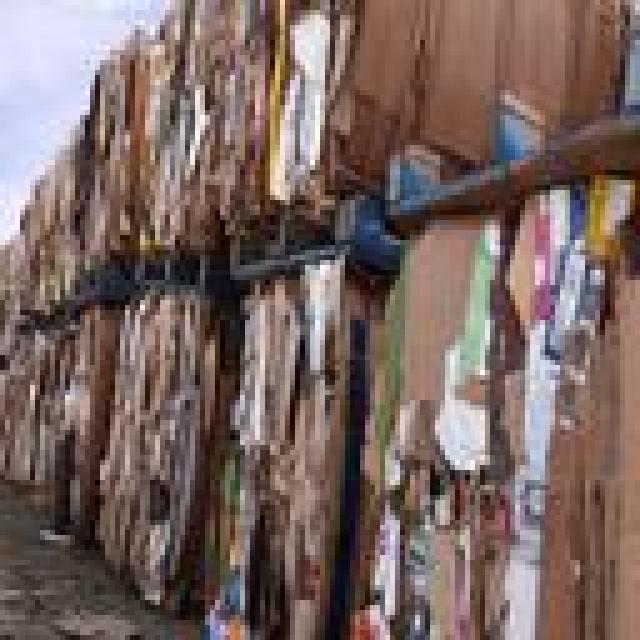cardboard: (360, 230, 635, 635), (325, 0, 635, 195), (195, 270, 360, 635), (90, 280, 215, 610), (205, 0, 330, 225), (110, 0, 220, 240), (30, 300, 100, 535), (60, 40, 125, 270), (15, 155, 70, 290), (0, 340, 35, 490), (0, 240, 20, 330)
